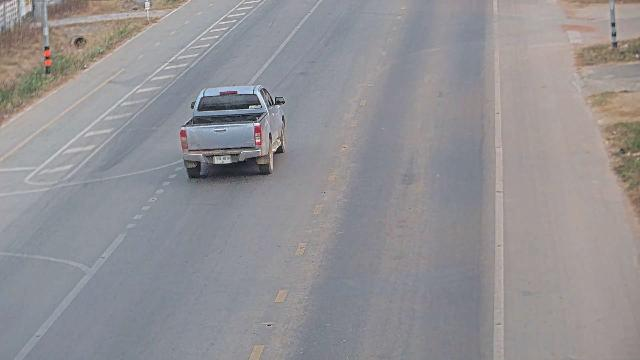pickup-truck: (179, 84, 287, 178)
